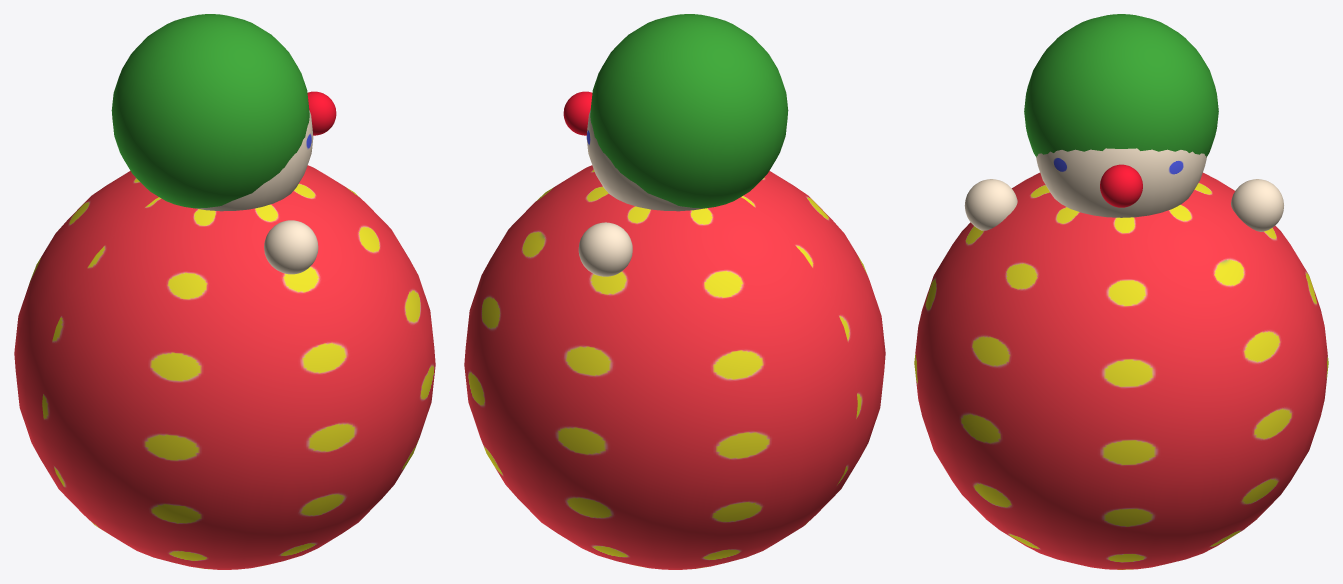
The model's file is clown_redyellowdot.gltf.
The picture shows the model from 3 angles, left to right: view 1: azimuth 30°, elevation 25°; view 2: azimuth 150°, elevation 25°; view 3: azimuth 270°, elevation 25°; orthographic projection.
Parts seen in each view (by area): view 1: Clown; view 2: Clown; view 3: Clown.
Part boxes in pixels (<box>): Clown: <box>14,14,435,569</box>; Clown: <box>464,14,885,569</box>; Clown: <box>914,14,1328,569</box>.
Bounding box in the file's own units: 2 × 2.77 × 2.
Materials: 1 (1 with a texture image).
